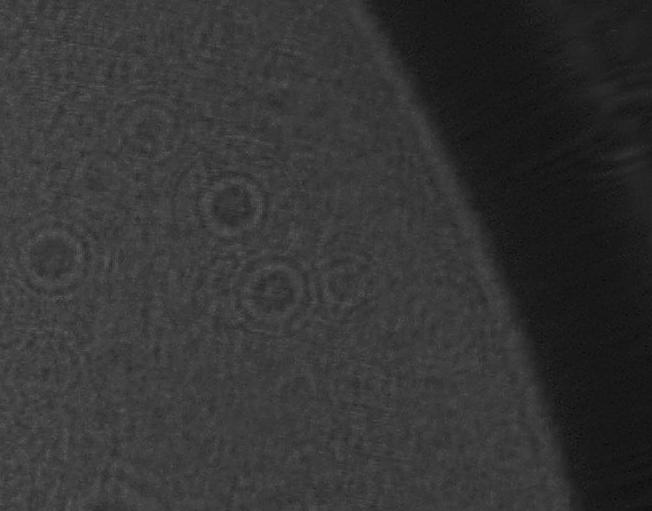bead: (9, 203, 117, 307), (235, 255, 339, 348), (180, 166, 278, 246)
